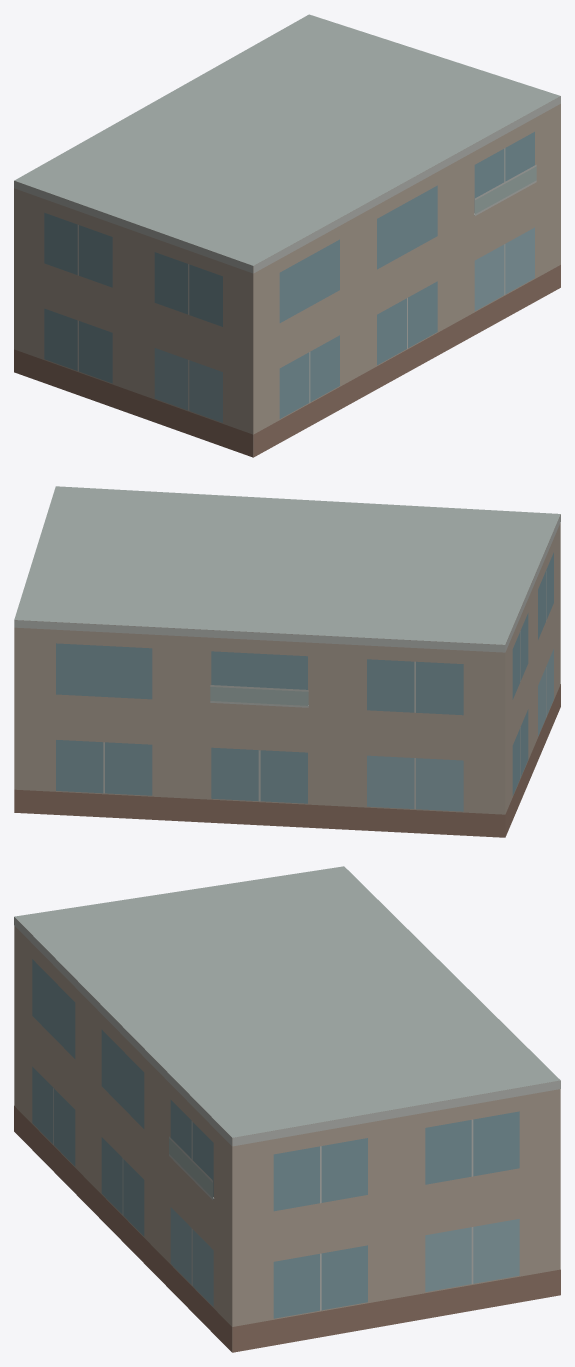
The model's file is survey-upis-32610087.glb.
3 views of the same model, one above another, from view 1: azimuth 30°, elevation 25°; view 2: azimuth 150°, elevation 25°; view 3: azimuth 270°, elevation 25° (orthographic). The views are drawn at different scales.
Visible parts, largest first — view 1: survey-upis-32610087.tmp; view 2: survey-upis-32610087.tmp; view 3: survey-upis-32610087.tmp.
Boxes of the visible parts, box(x1,y1,x2,y2) form: survey-upis-32610087.tmp: box(14, 14, 560, 457); survey-upis-32610087.tmp: box(14, 486, 560, 837); survey-upis-32610087.tmp: box(14, 866, 560, 1352).
Size of the model in its own units: 16.56 by 6.1 by 14.08.
